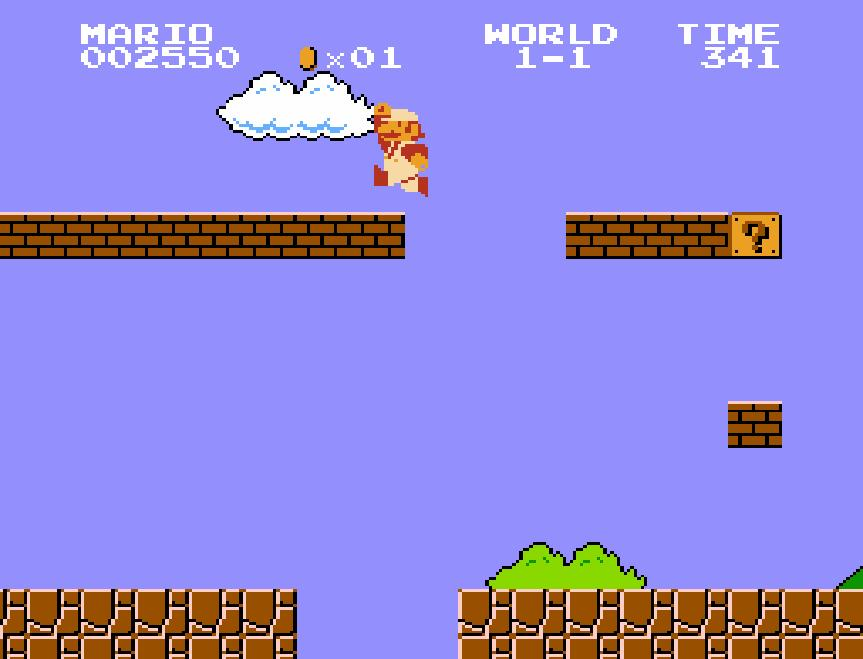fire_mario: (372, 100, 430, 198)
